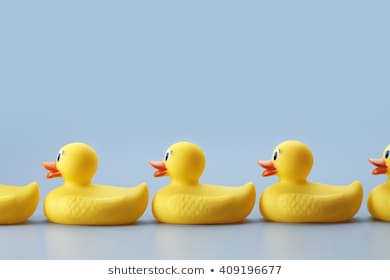duck: (40, 136, 152, 232)
